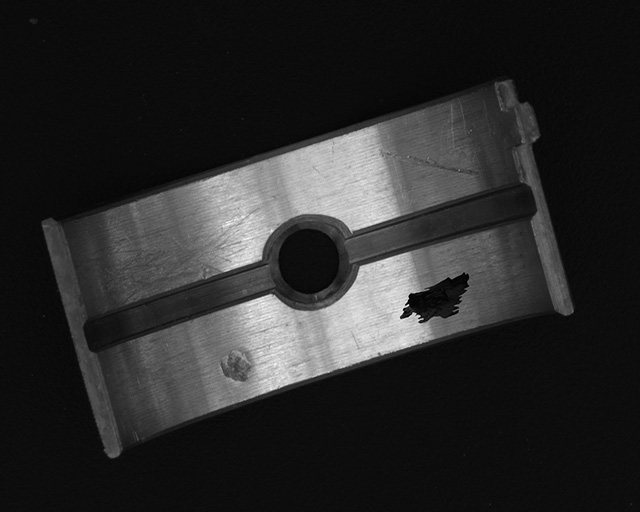blot: (398, 270, 470, 325)
bruise: (219, 345, 255, 383)
gap: (84, 261, 275, 350), (343, 183, 533, 265)
hole: (267, 219, 353, 303)
nick: (378, 148, 481, 178)
scratch: (79, 205, 260, 305)
